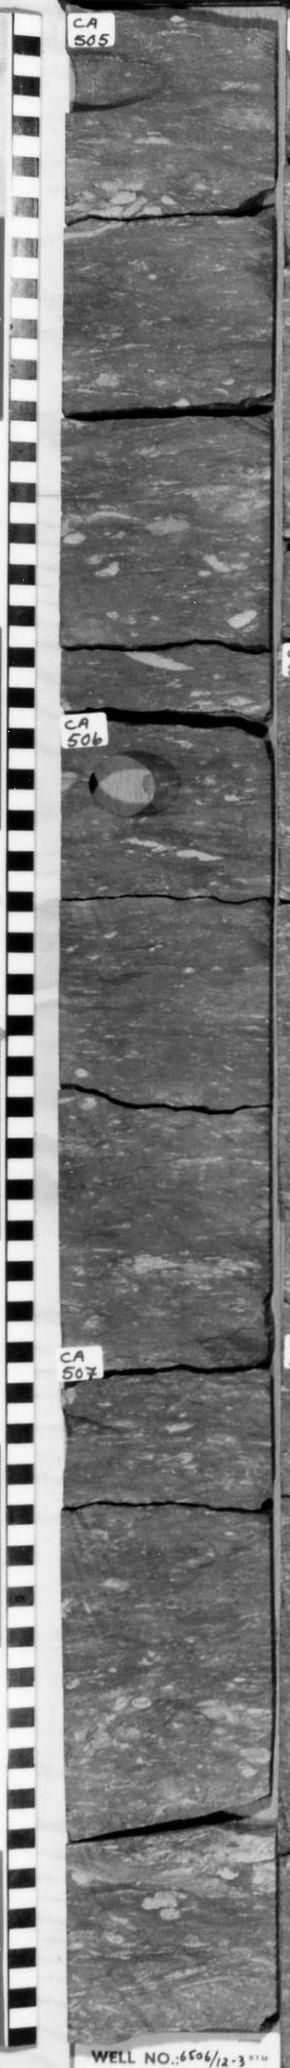hplug: (79, 737, 195, 827), (69, 41, 181, 124), (67, 1406, 128, 1442)
